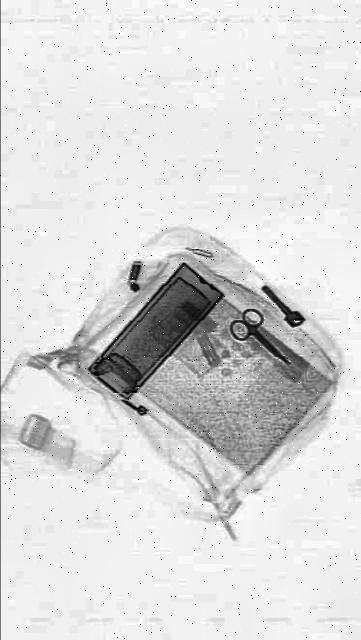Scissors: (226, 294, 294, 382)
